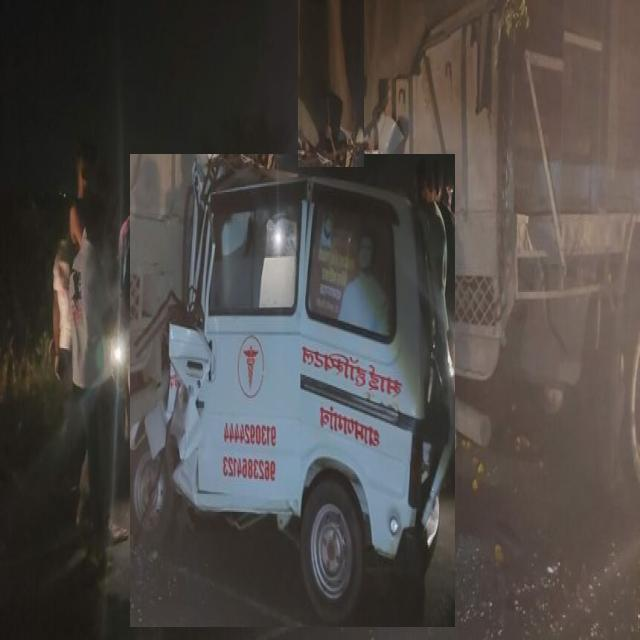accident: (342, 0, 640, 533), (130, 155, 455, 627), (299, 0, 364, 167)
